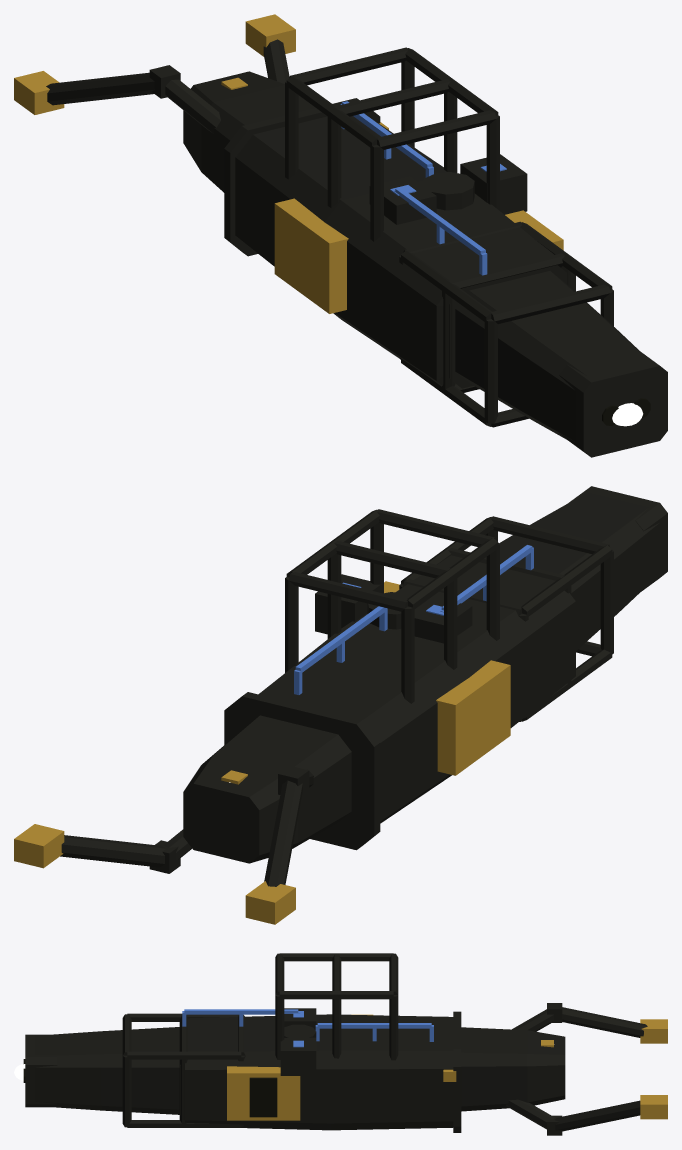
The picture shows the model from 3 angles, top to bottom: view 1: azimuth 30°, elevation 25°; view 2: azimuth 150°, elevation 25°; view 3: azimuth 270°, elevation 25°; orthographic projection. The views are drawn at different scales.
Parts seen in each view (by area): view 1: RIMWARD_HULL; view 2: RIMWARD_HULL; view 3: RIMWARD_HULL.
Part boxes in pixels (x1=…): RIMWARD_HULL: x1=14, y1=14, x2=667, y2=457; RIMWARD_HULL: x1=14, y1=486, x2=667, y2=924; RIMWARD_HULL: x1=23, y1=953, x2=667, y2=1135.
Size of the model in its own units: 2.47 by 1.93 by 8.03.
